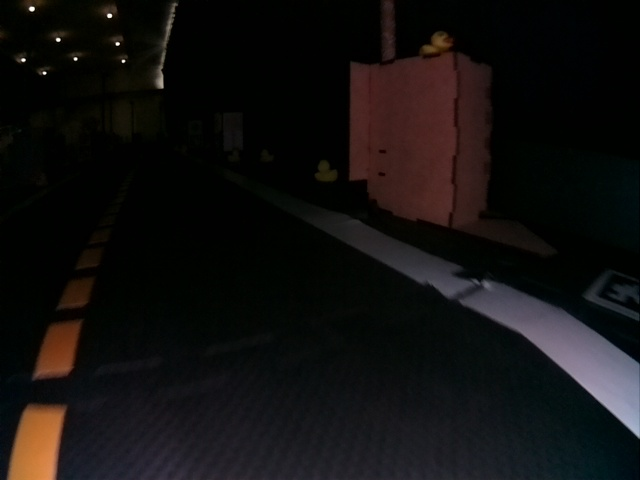Duckie: (422, 32, 452, 54), (316, 160, 335, 182), (260, 150, 270, 160), (229, 152, 238, 159)
QR code: (589, 269, 639, 320)
